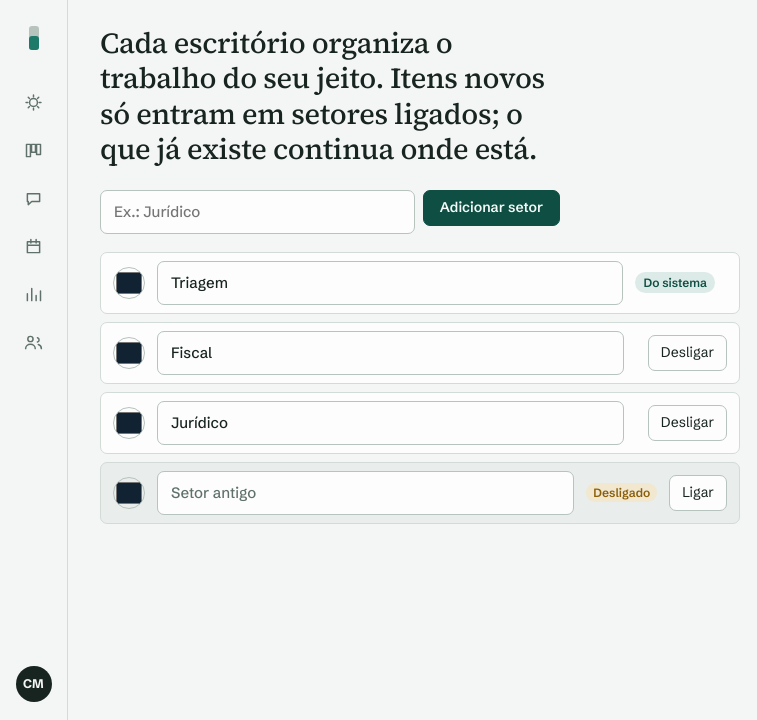
Scenario: sectors page › explains a repeated name
In the field named "Nome do novo setor": (257, 212) [100,190,415,234], type "Fiscal"
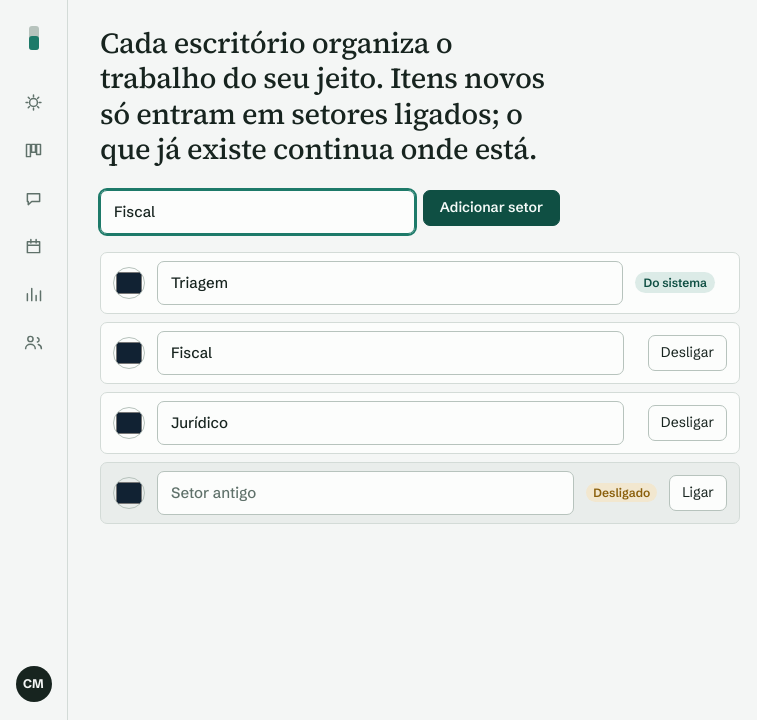
Click the button "Adicionar setor": click(491, 208) [423,190,560,226]
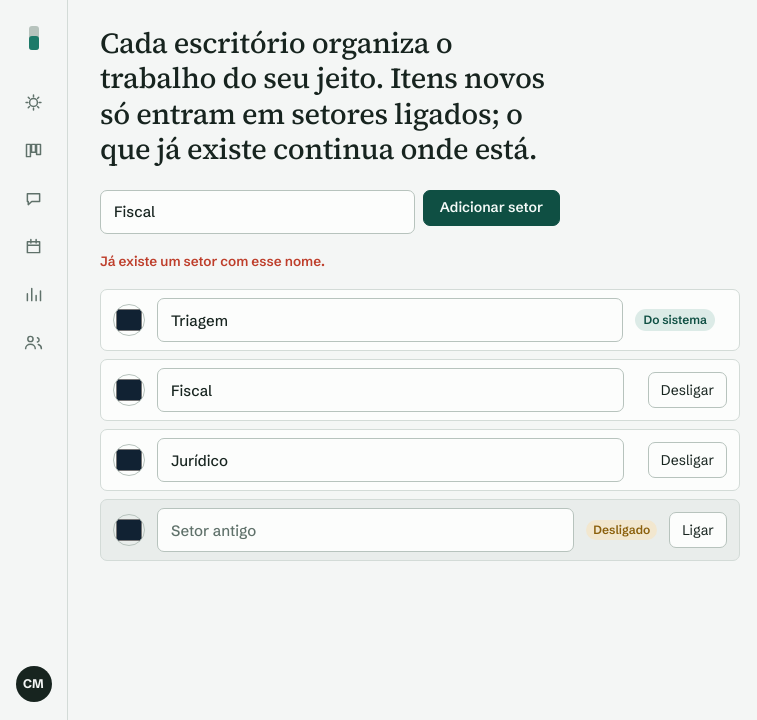
Now the message reads "Já existe um setor com esse nome.", box [100,252,325,268]
